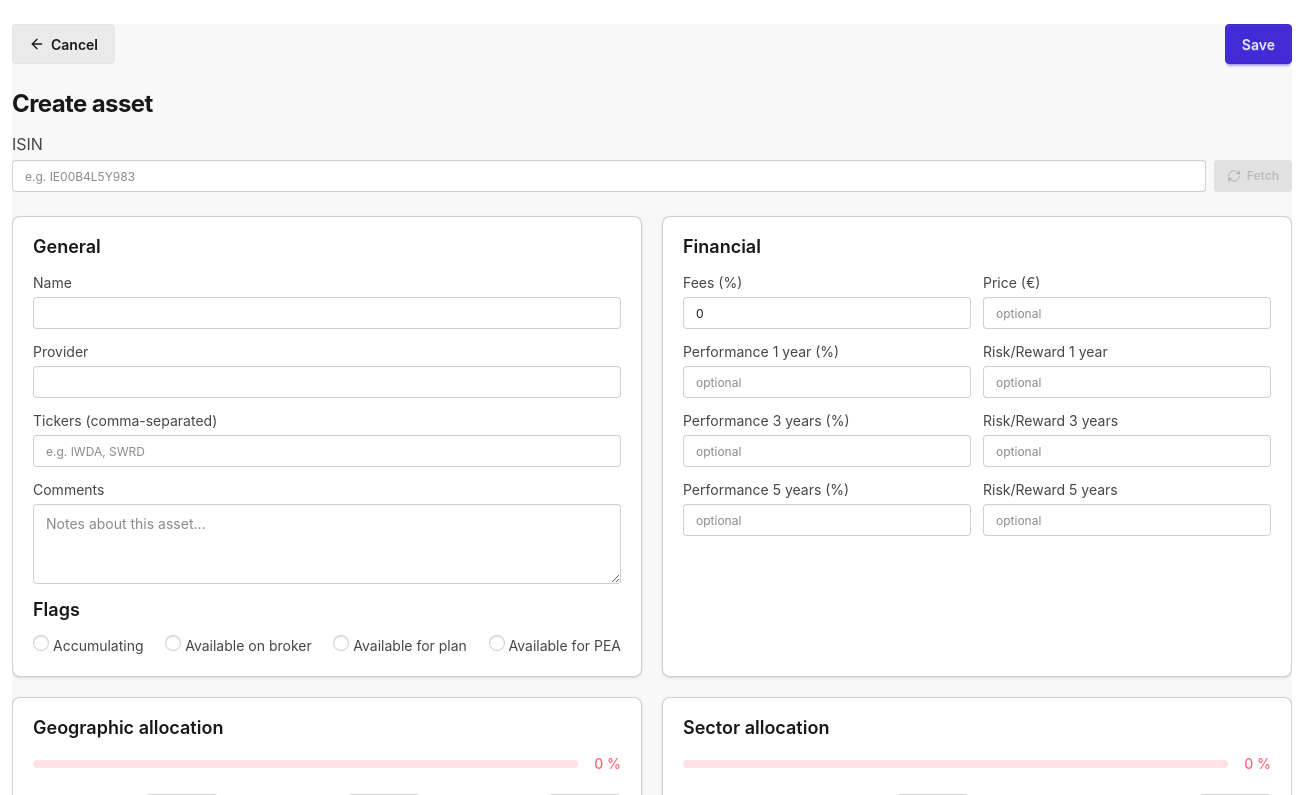
Scenario: AssetCreatePage › shows isin error when saving with invalid ISIN
Type "My ETF" into the field with test id "name" at (327, 313), box [33,297,621,329]
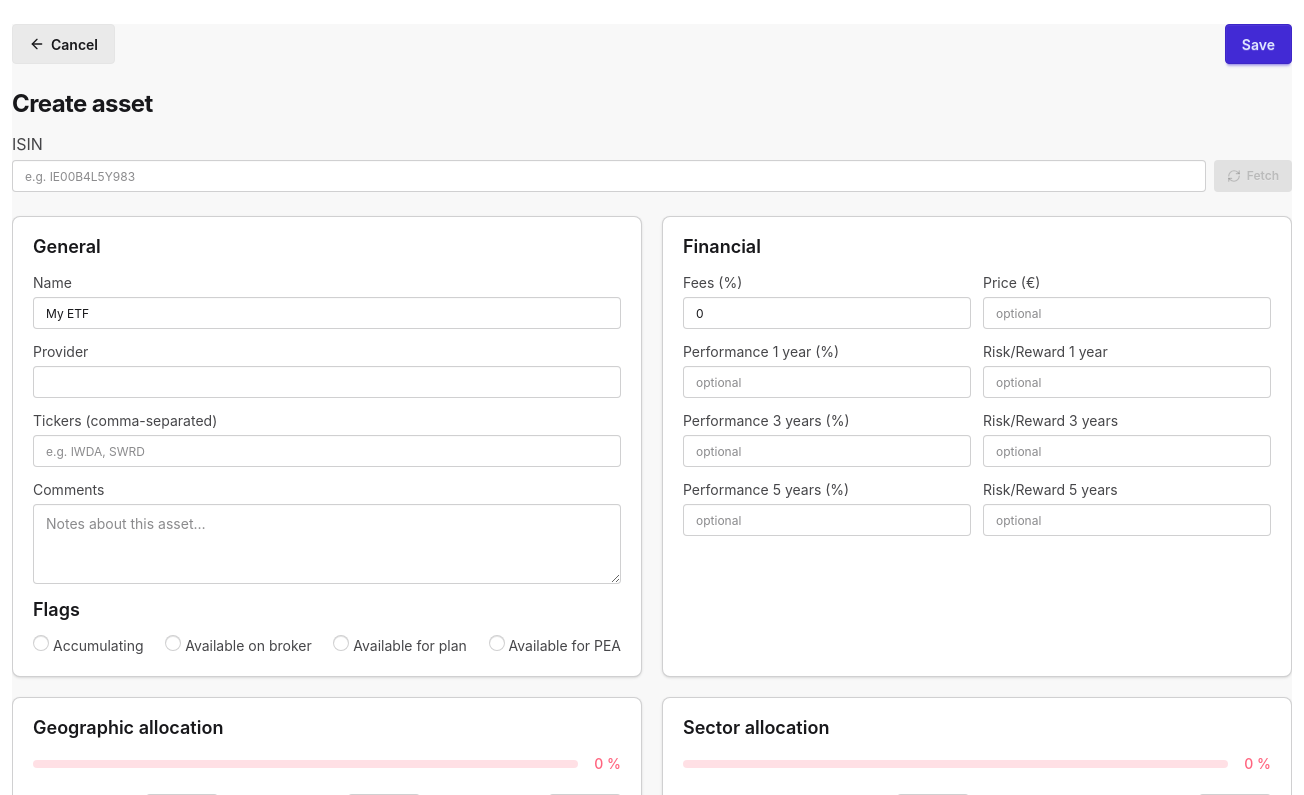
Click the button with test id "save-button" at (1258, 44), box [1225,24,1292,64]
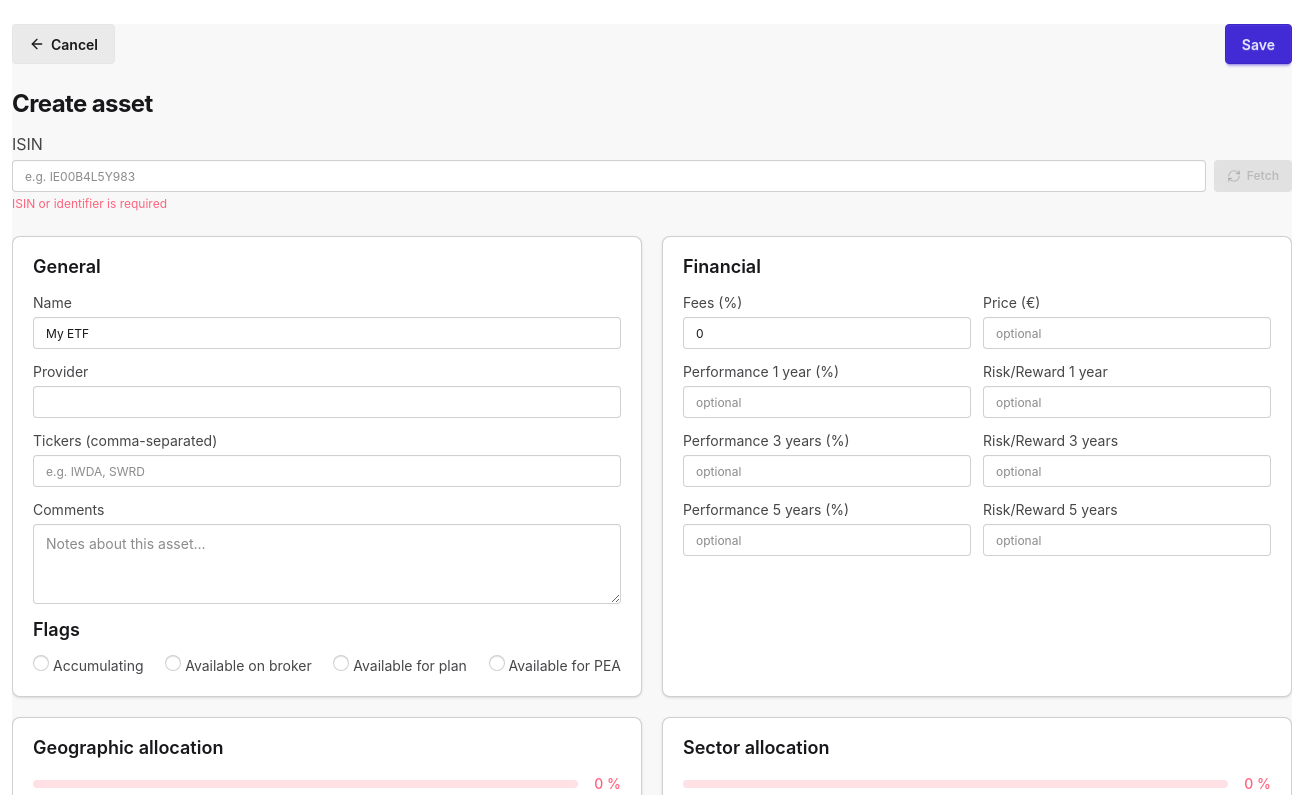
expect the text "ISIN or identifier is required" is shown: met, box [12,196,167,211]
